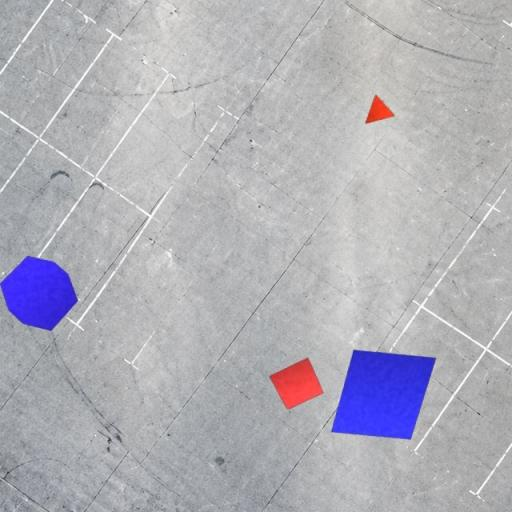BLUE_SQUARE: (330, 349, 437, 440)
RED_SQUARE: (269, 357, 324, 410)
